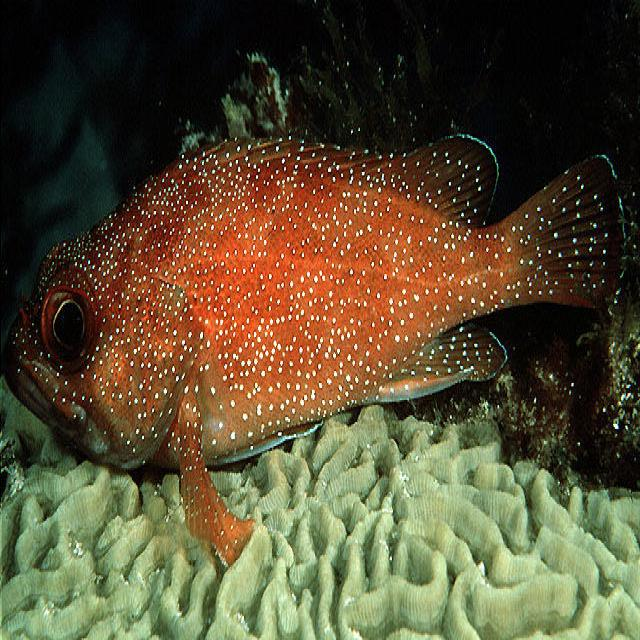ikan: (2, 127, 629, 568)
